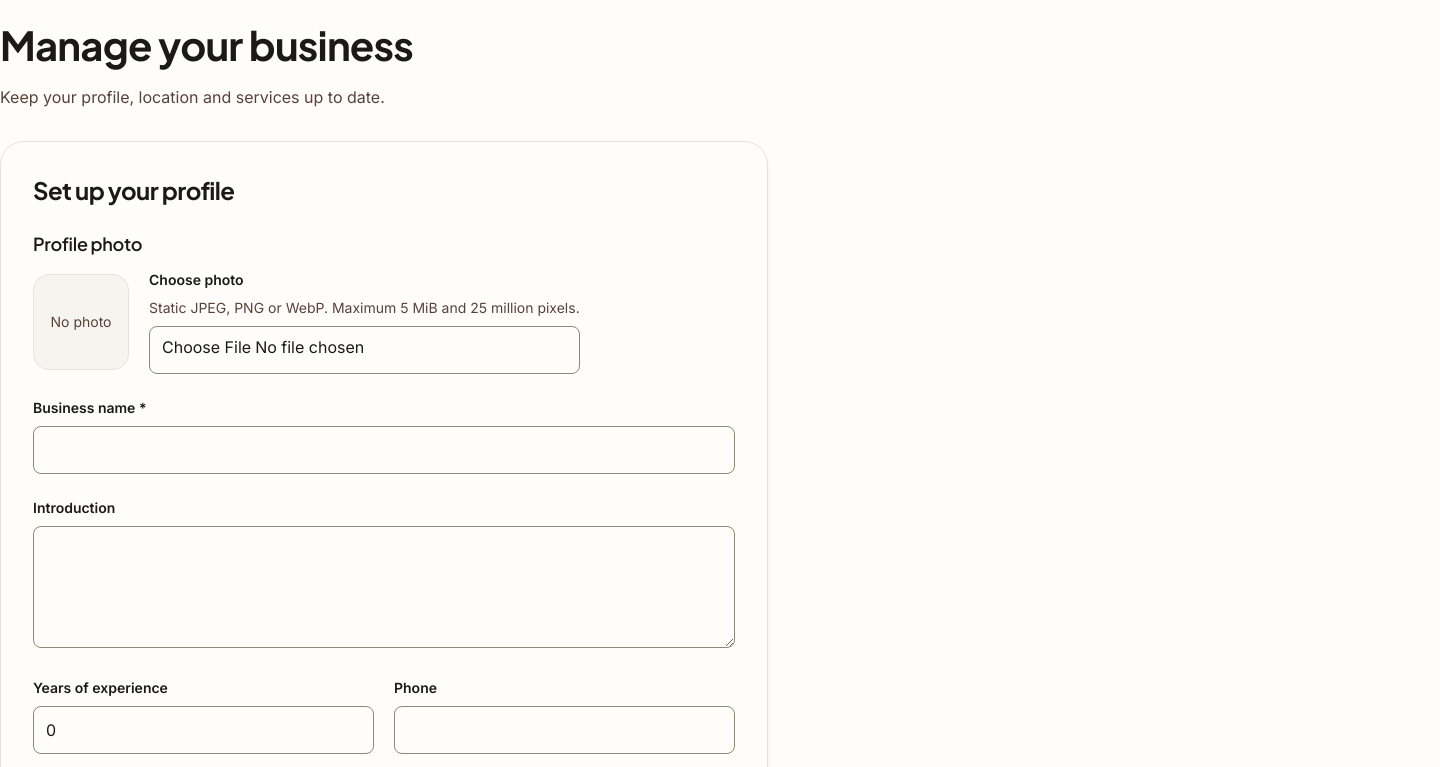
Test: saves a new profile without an image through the single save action
In the field labelled "Business name *": coordinates (384, 450) [33,426,735,474], type "Ada"
(page scrolled)
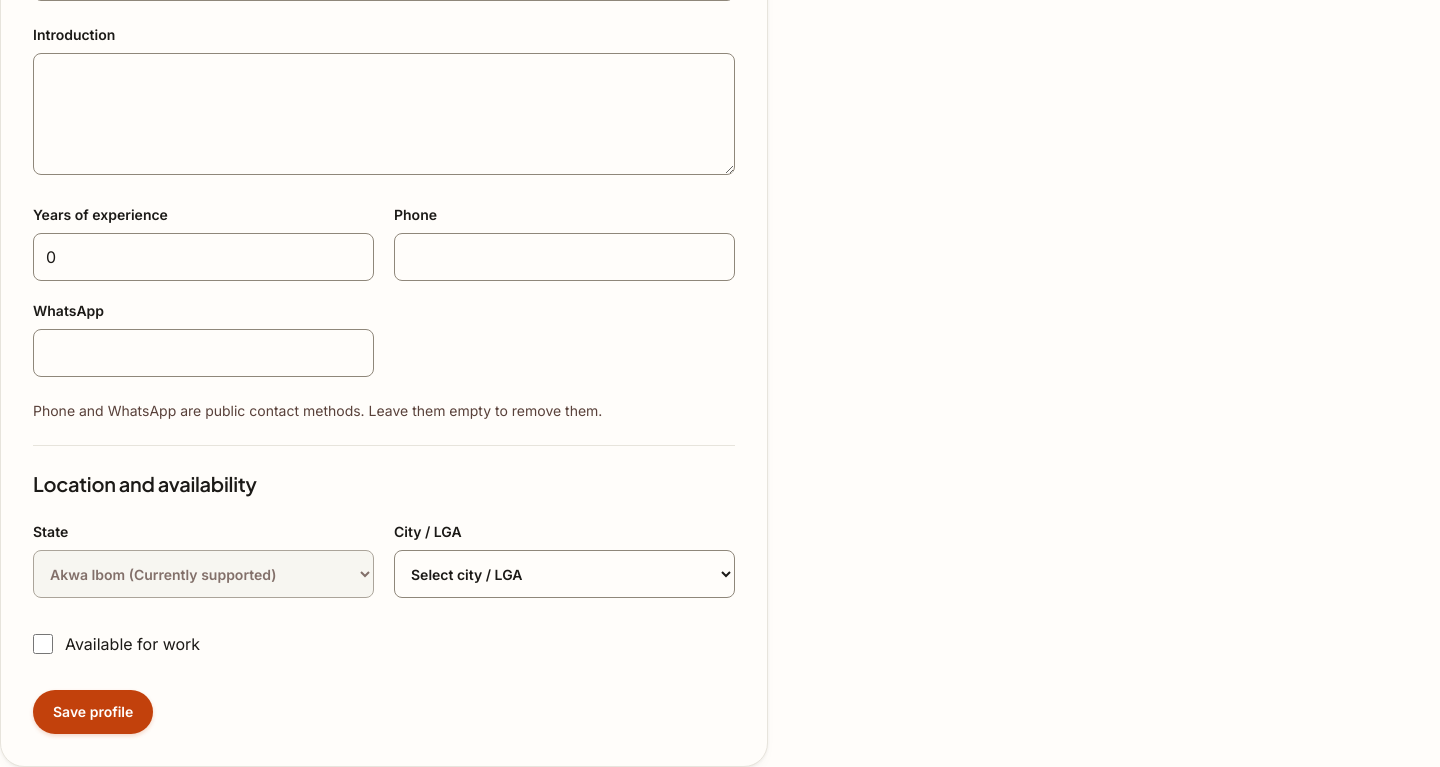
Select "Eket" in the dropdown labelled "City / LGA": coordinates (564, 574) [394,550,735,598]
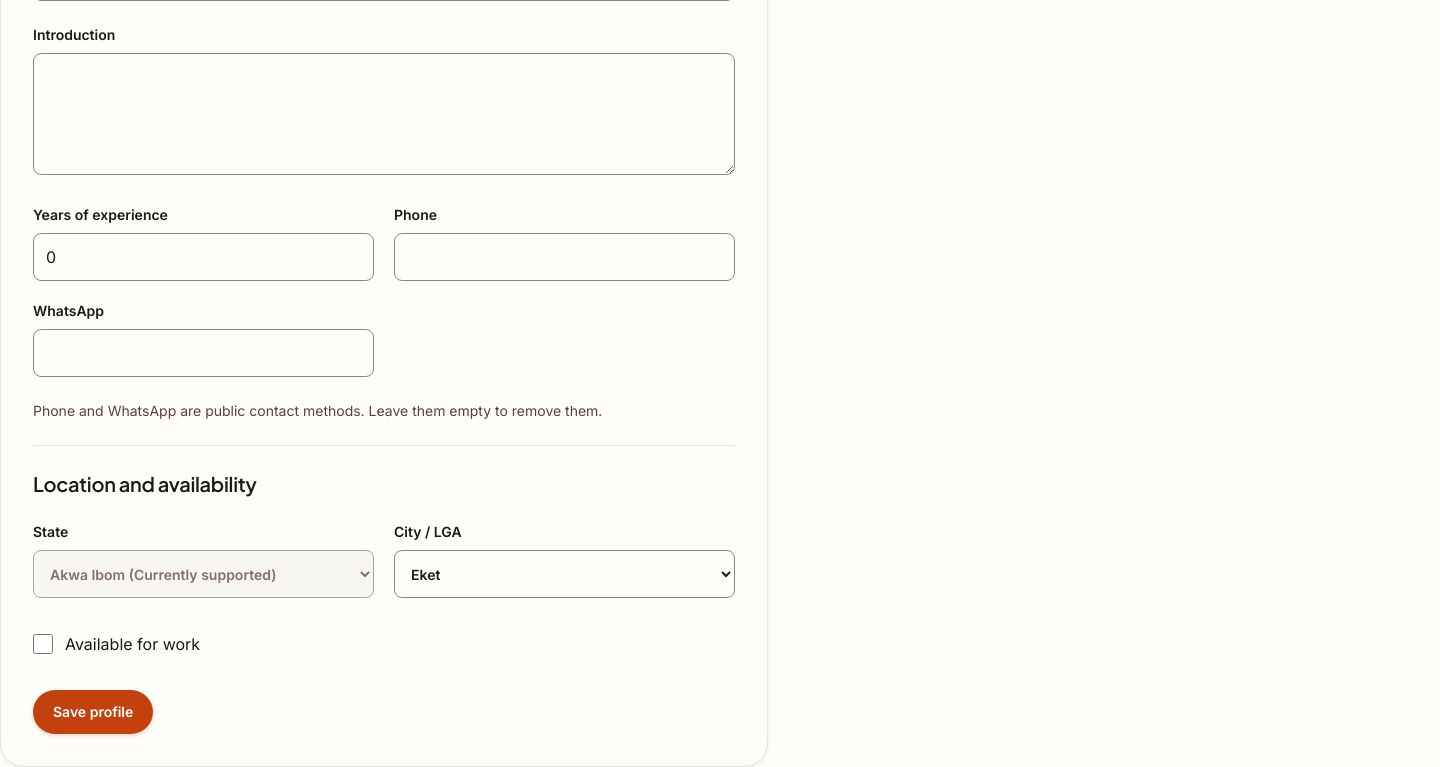
Click the button "Save profile": coordinates (93, 712) [33,690,153,734]
(page scrolled)
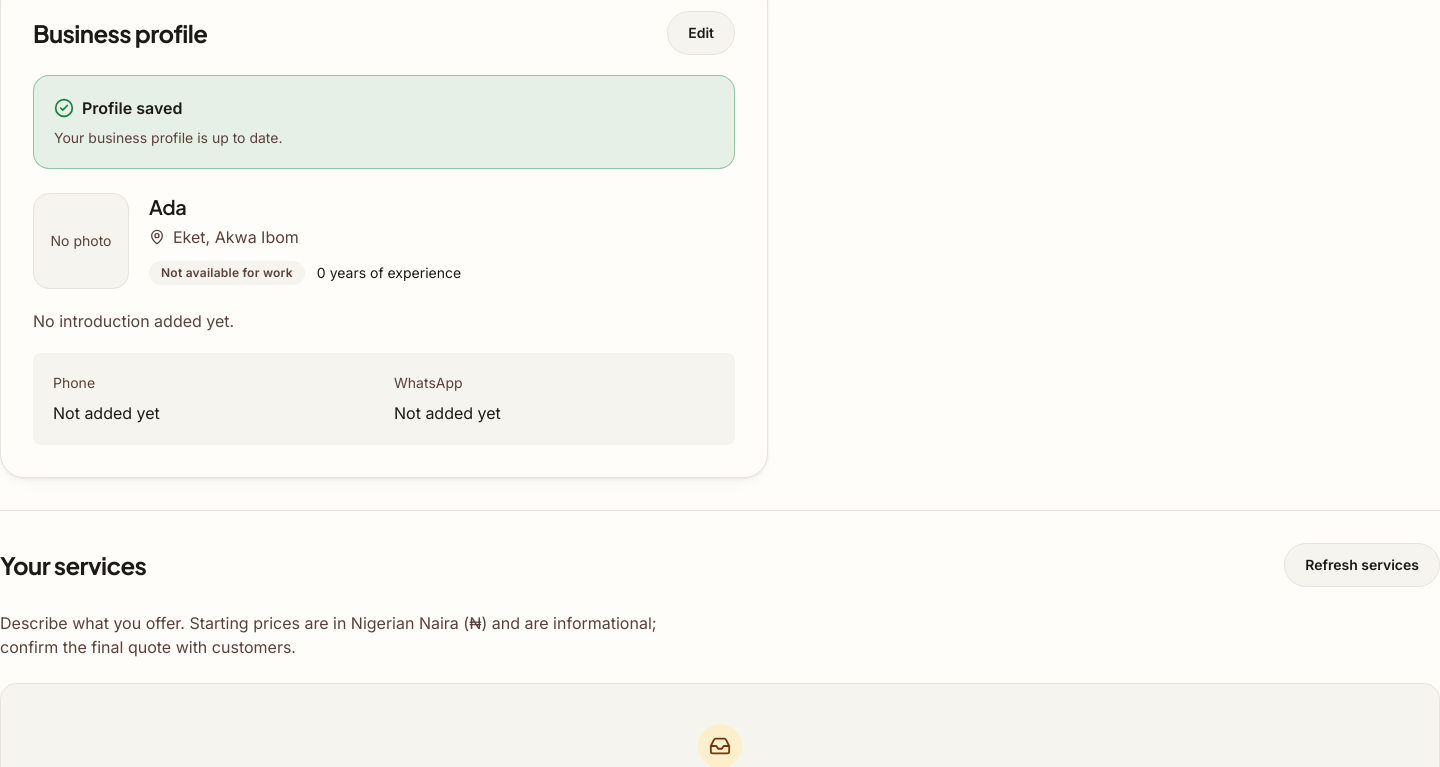
Expected: the text "Profile saved" is shown, [54,98,182,118]
